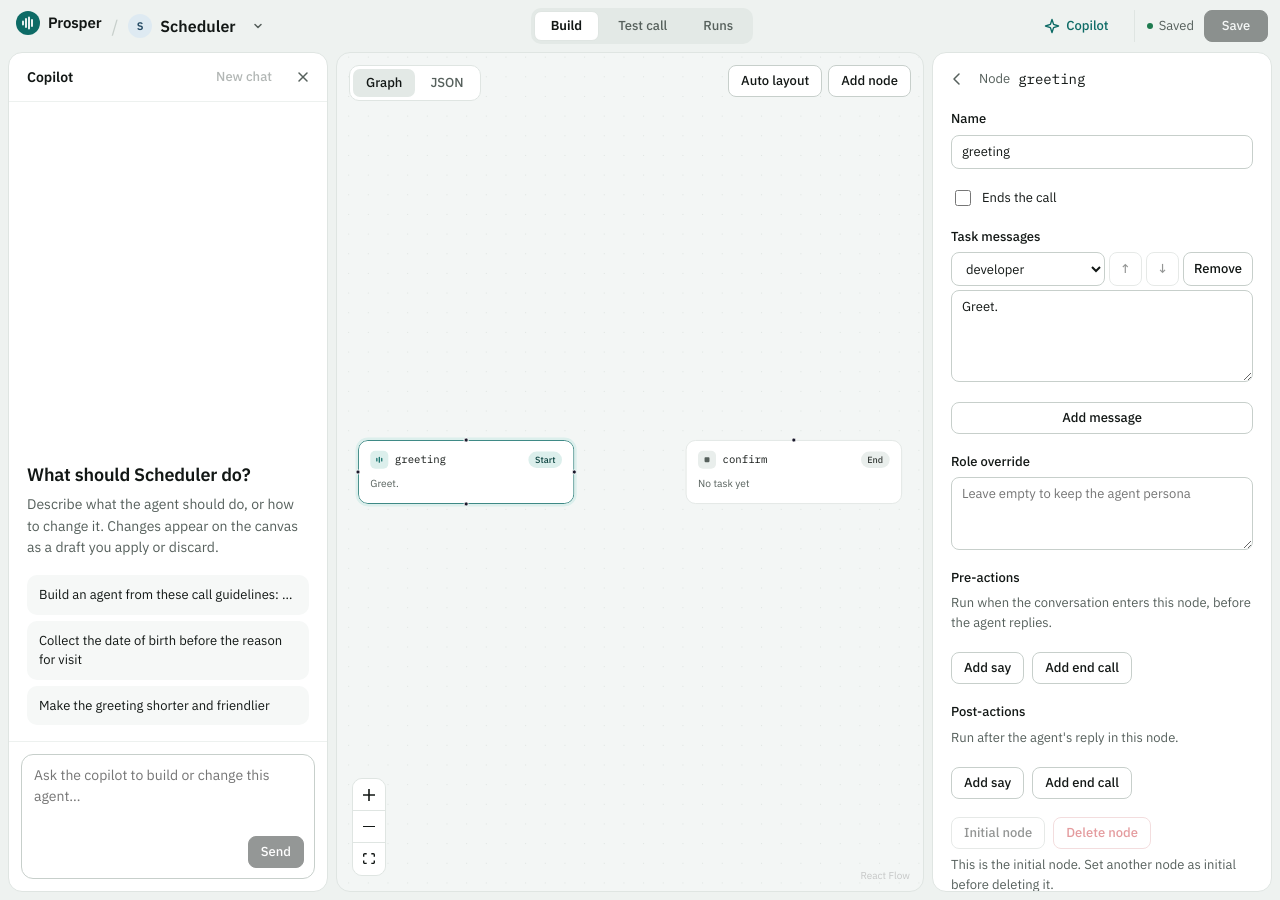
Test case: starts saved, becomes unsaved after an edit, and saves text with positions
Replace the text in the text box named "Content of message 1" with "Hello!": (1102, 336) [951,290,1253,382]
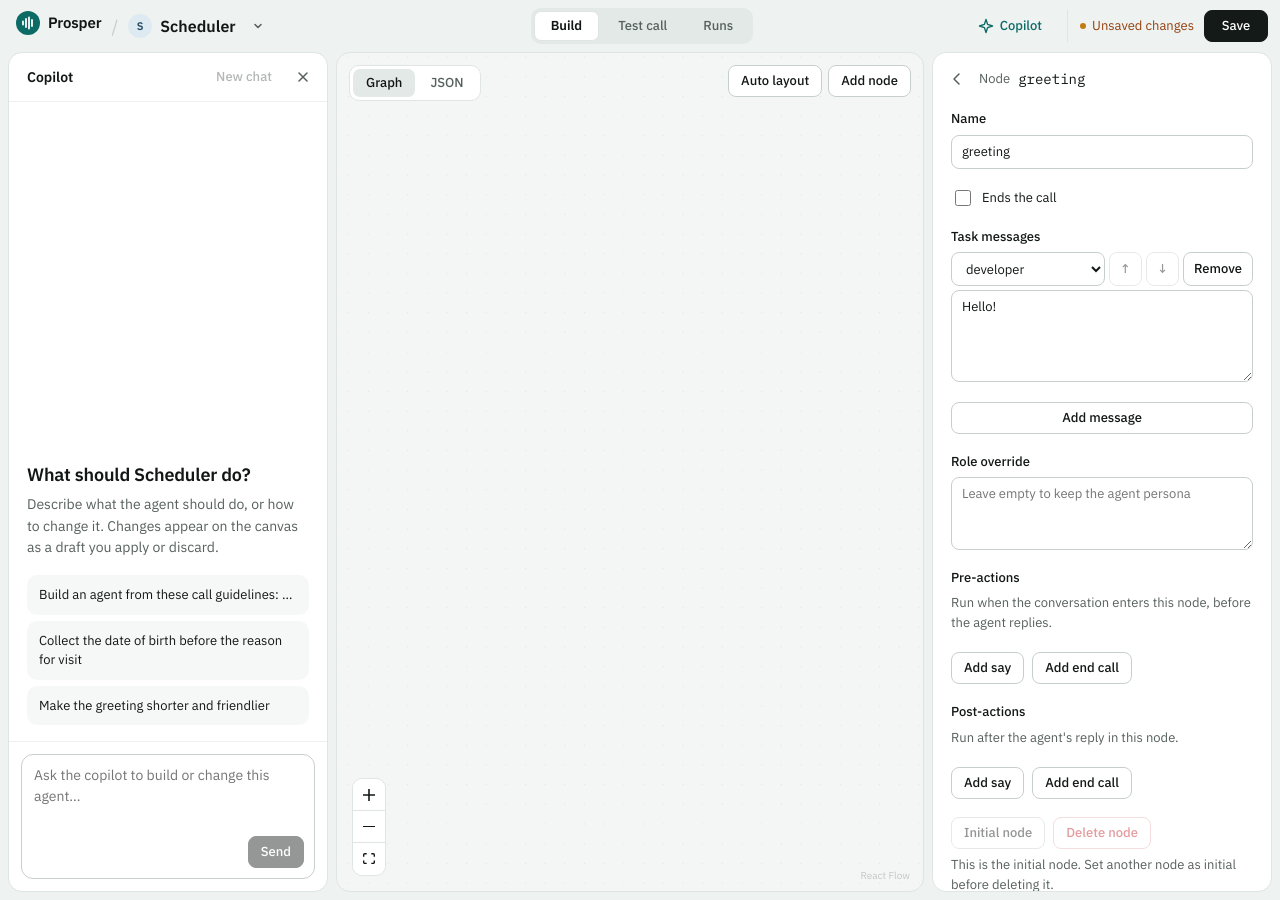
Expected: the text with test id "save-status" reads "Unsaved changes", [1092,17,1194,34]
Click the button "Save": click(1236, 26) [1204,10,1268,42]
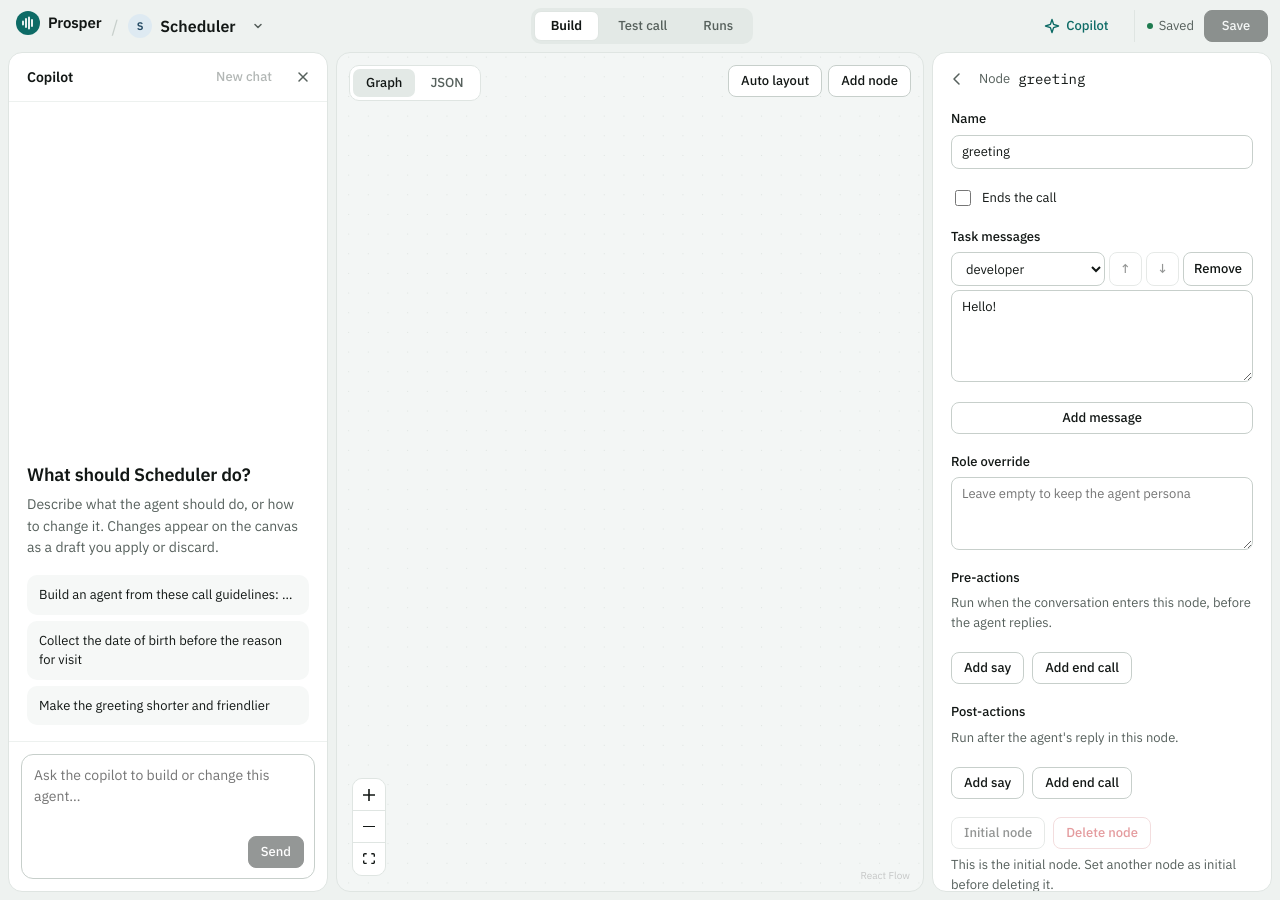
Expected: the text with test id "save-status" reads "Saved", [1159,17,1194,34]
